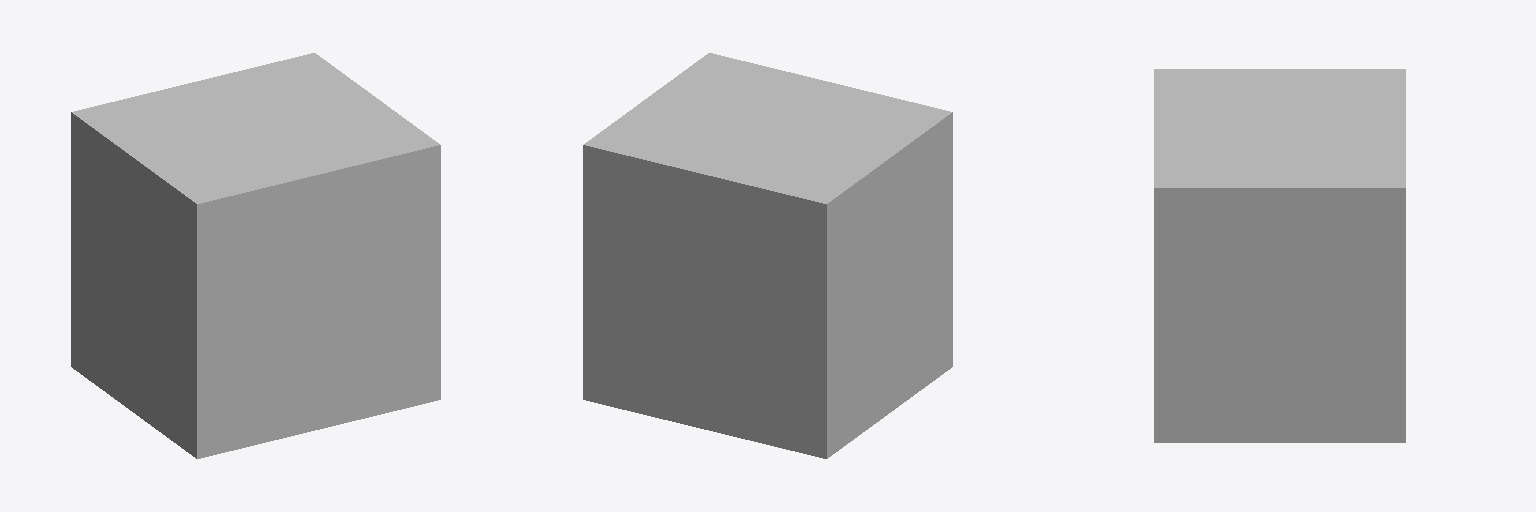
The model's file is prt00034.obj.
3 renders of one model, left to right at view 1: azimuth 30°, elevation 25°; view 2: azimuth 150°, elevation 25°; view 3: azimuth 270°, elevation 25°, orthographic.
Parts seen in each view (by area): view 1: 1; view 2: 1; view 3: 1.
Boxes of the visible parts, x1=… form: 1: x1=71, y1=53, x2=440, y2=458; 1: x1=583, y1=53, x2=952, y2=458; 1: x1=1154, y1=69, x2=1405, y2=442.
Size of the model in its own units: 242 by 242 by 217.